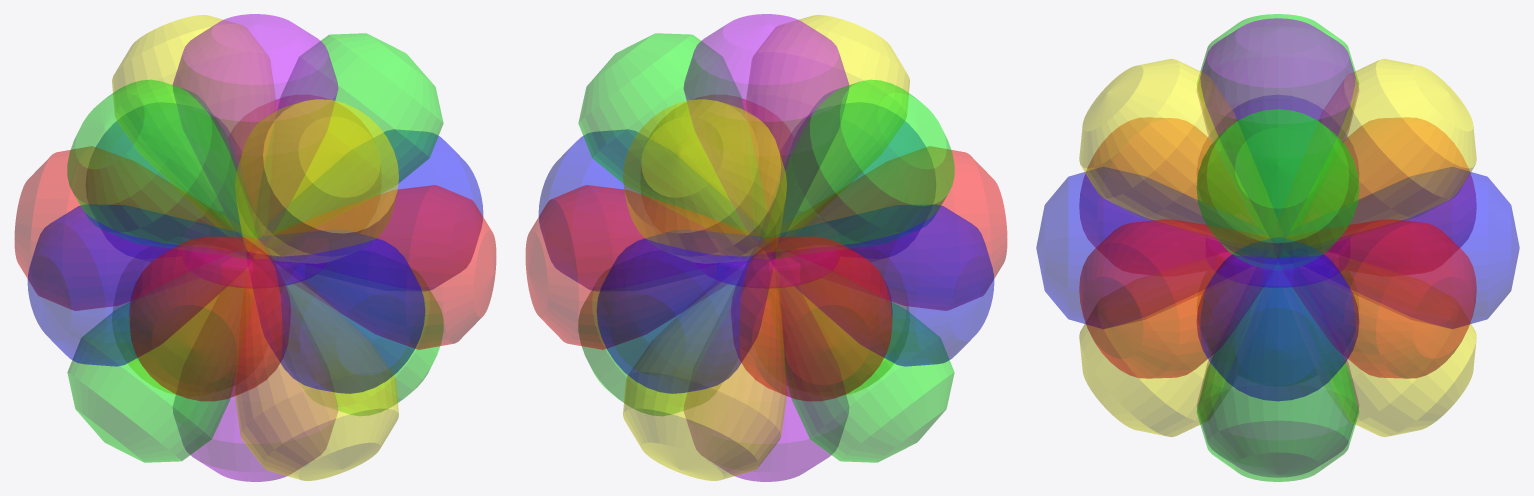
The model's file is dgd.glb.
3 views of the same model, side by side, from view 1: azimuth 30°, elevation 25°; view 2: azimuth 150°, elevation 25°; view 3: azimuth 270°, elevation 25° (orthographic).
Parts seen in each view (by area): view 1: 柱体.003, 柱体.004, 柱体.002, 柱体, 柱体.001; view 2: 柱体.003, 柱体.004, 柱体.002, 柱体, 柱体.001; view 3: 柱体.004, 柱体, 柱体.002, 柱体.003, 柱体.001.
Part boxes in pixels (x1,y1,x2,y2): 柱体.003: (67, 33, 443, 462); 柱体.004: (112, 15, 398, 480); 柱体.002: (14, 99, 496, 401); 柱体: (27, 121, 483, 393); 柱体.001: (172, 14, 338, 481); 柱体.003: (578, 33, 954, 462); 柱体.004: (623, 15, 909, 480); 柱体.002: (525, 99, 1007, 401); 柱体: (538, 121, 994, 393); 柱体.001: (683, 14, 849, 481); 柱体.004: (1079, 59, 1476, 436); 柱体: (1036, 136, 1519, 401); 柱体.002: (1079, 117, 1476, 378); 柱体.003: (1196, 14, 1359, 481); 柱体.001: (1197, 18, 1358, 477).
Bounding box in the file's own units: 4 × 4 × 4.
